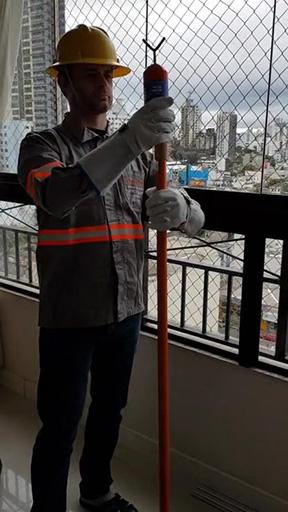Detector_Tensao_Contato: (141, 36, 172, 125)
Vara_Manobra: (152, 128, 170, 512)
